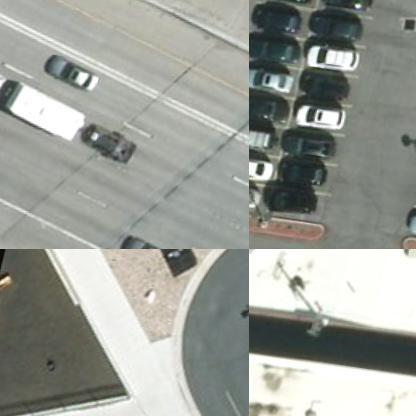car: (38, 53, 106, 90), (288, 93, 354, 127), (264, 182, 330, 216), (304, 7, 370, 40), (299, 38, 365, 70), (294, 68, 360, 100), (282, 129, 348, 161), (272, 152, 338, 184), (249, 28, 304, 64), (249, 0, 309, 31), (249, 57, 297, 92), (249, 86, 290, 122), (249, 118, 283, 154), (121, 231, 186, 248), (249, 146, 279, 181), (249, 173, 269, 208), (308, 0, 375, 10)
